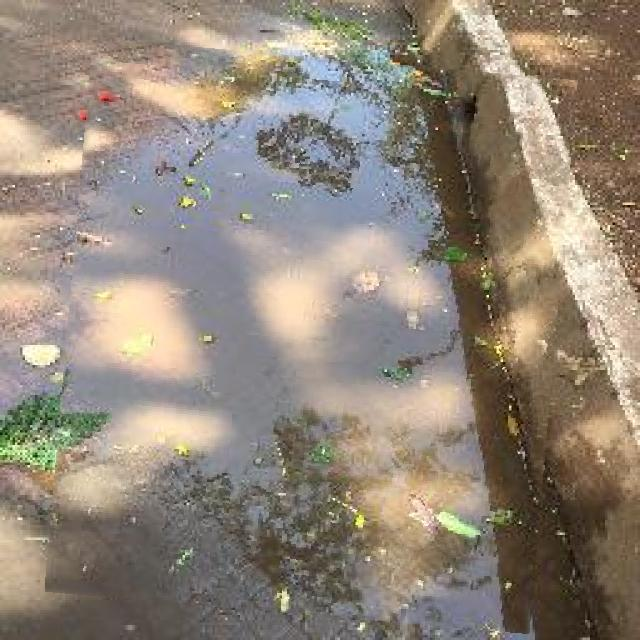puddle: (58, 49, 568, 625)
